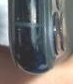scratch: (5, 12, 71, 77)
